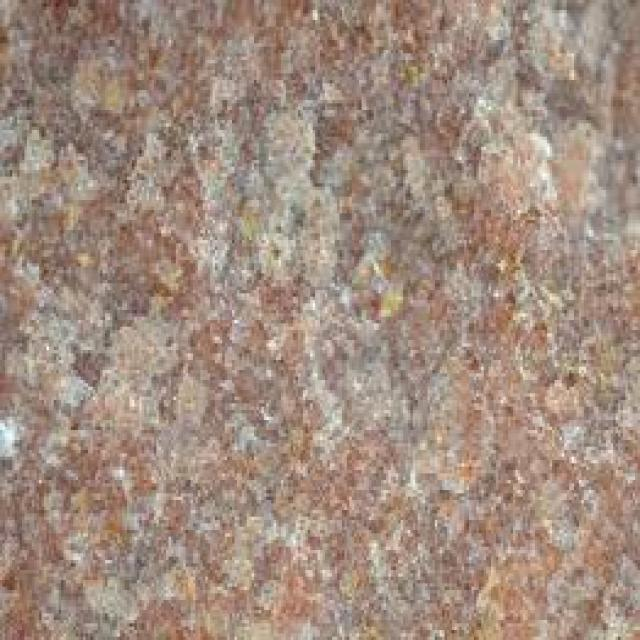Metamorphic: (2, 3, 630, 630)
